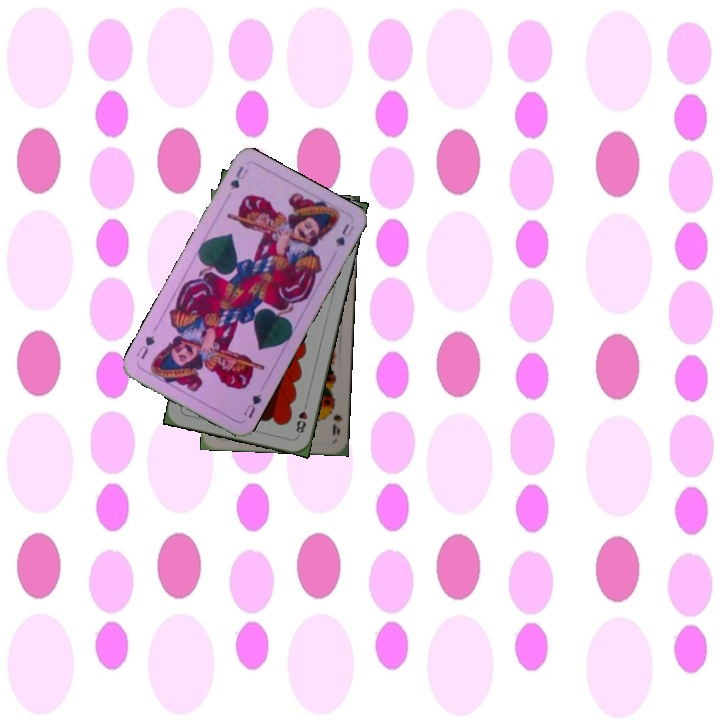GU: (239, 388, 264, 421), (226, 162, 251, 192)
H8: (292, 398, 310, 438)
S9: (326, 398, 345, 438)
